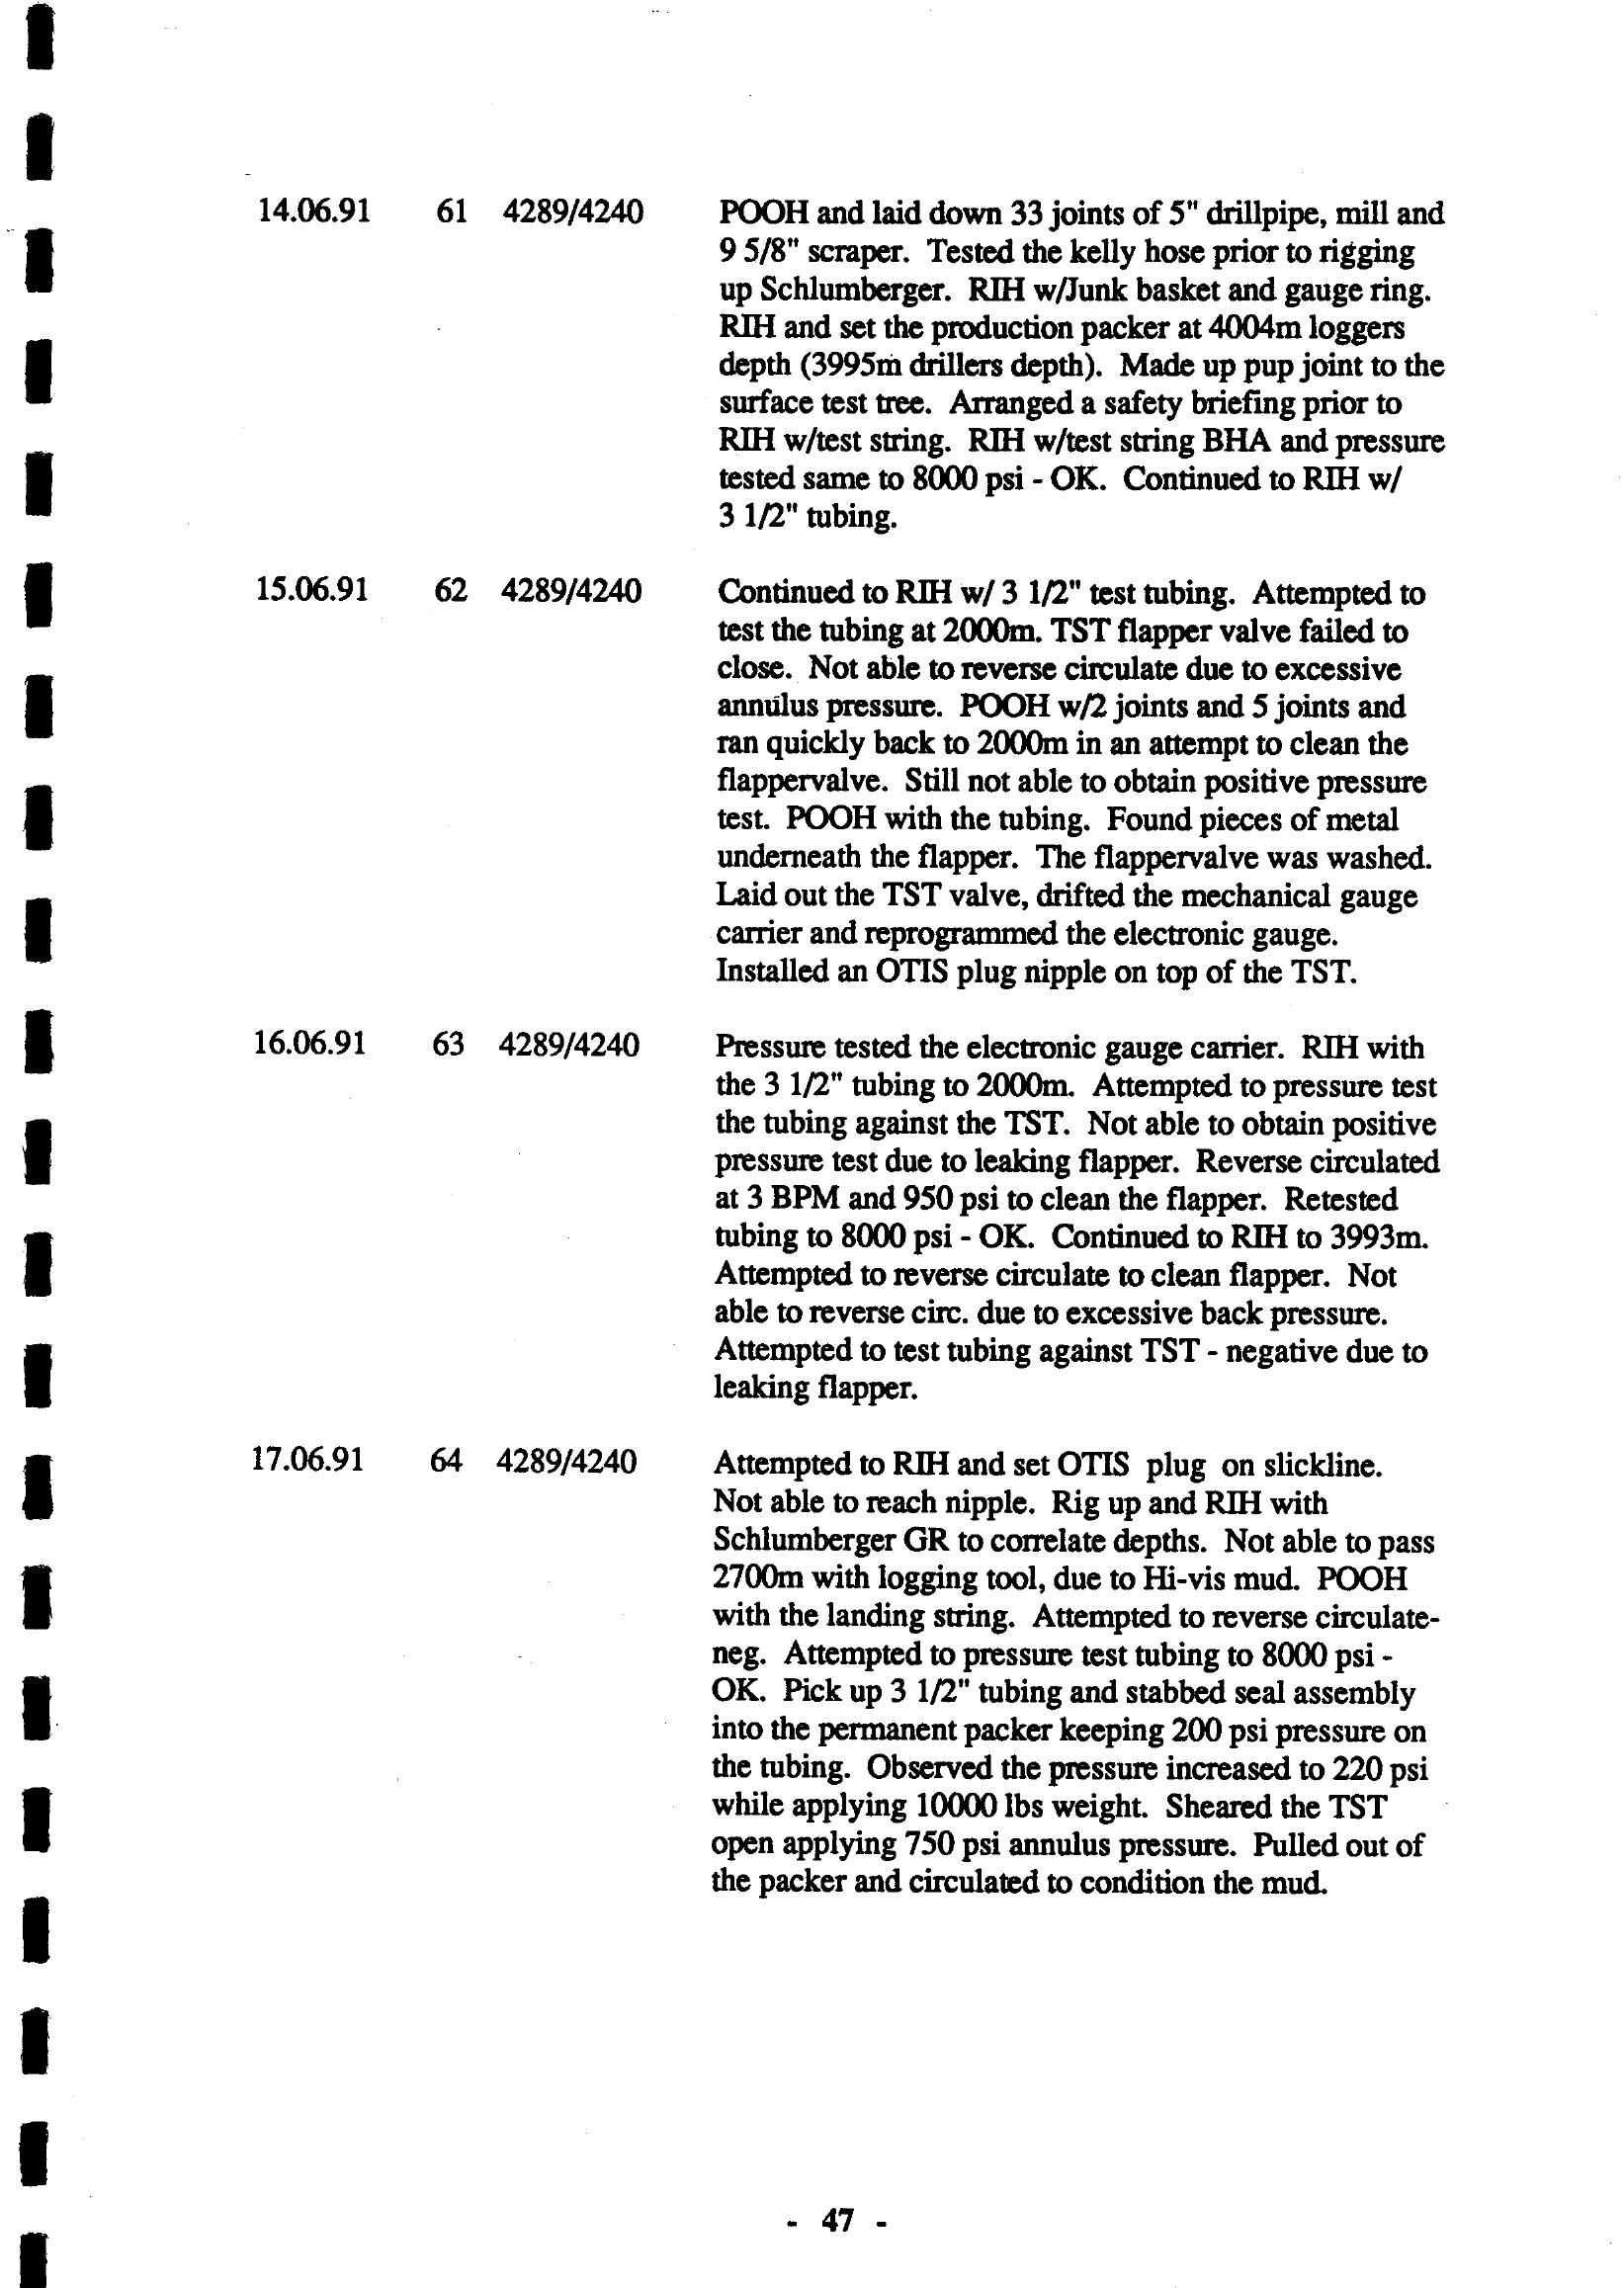text: (202, 130, 1494, 1947)
